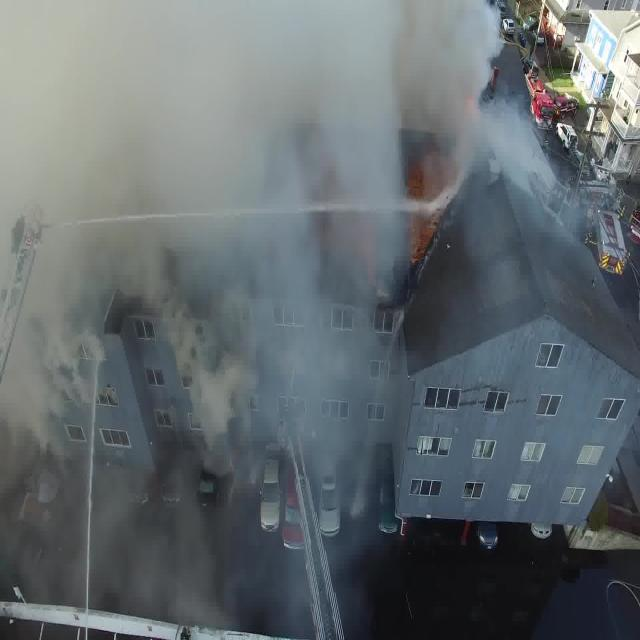Smoke: (59, 0, 533, 193), (72, 232, 360, 423)
